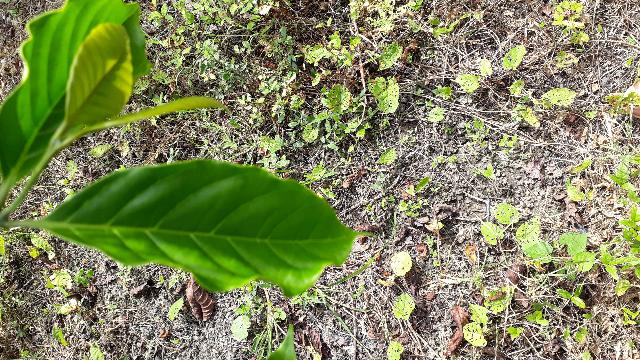healthy: (19, 154, 384, 300)
